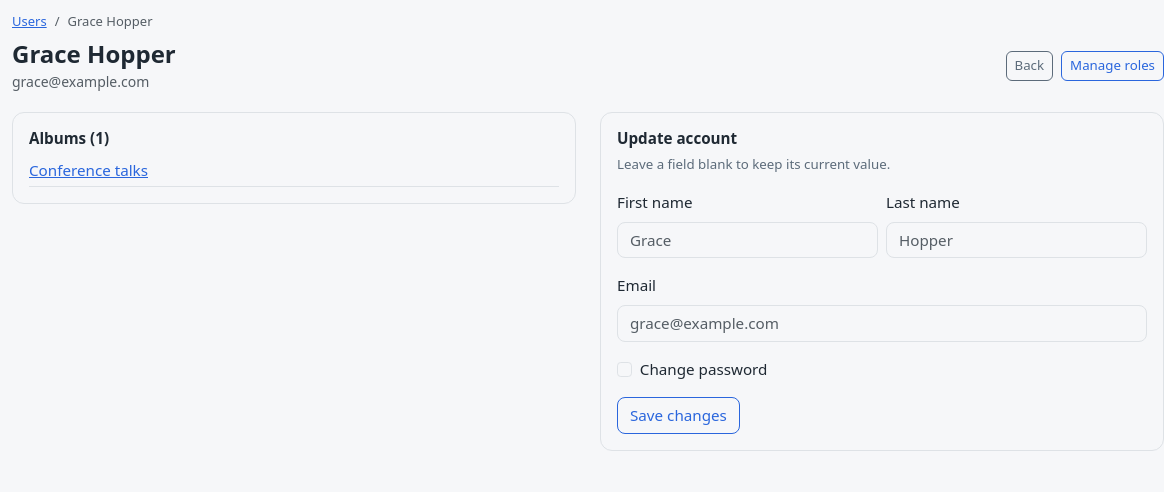
User detail › reports a duplicate email on its field
The image size is (1164, 492).
Type "ada@example.com" into the field labelled "Email" at point(882, 324), box [617, 305, 1147, 342]
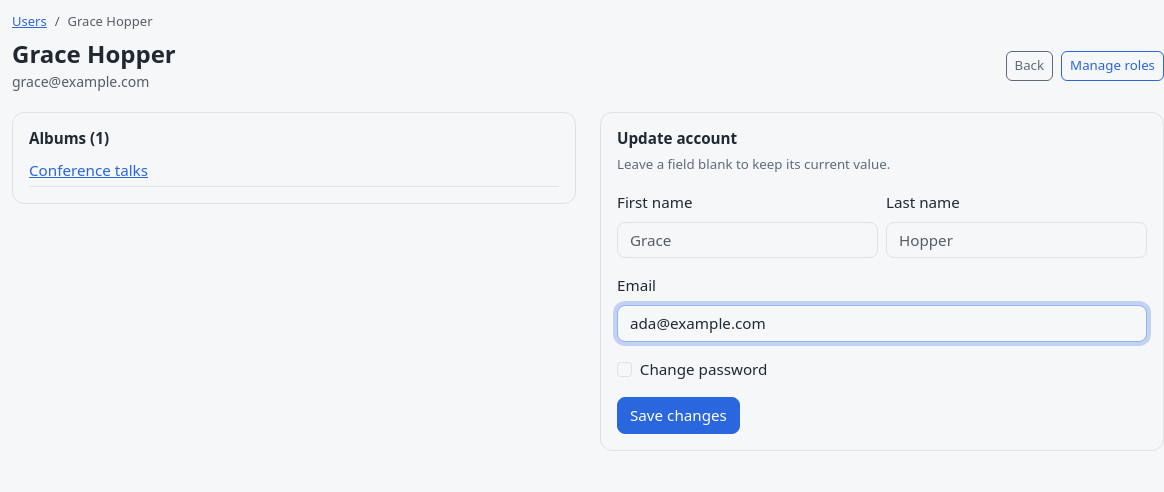
Click the button "Save changes" at point(678, 415), box [617, 397, 740, 434]
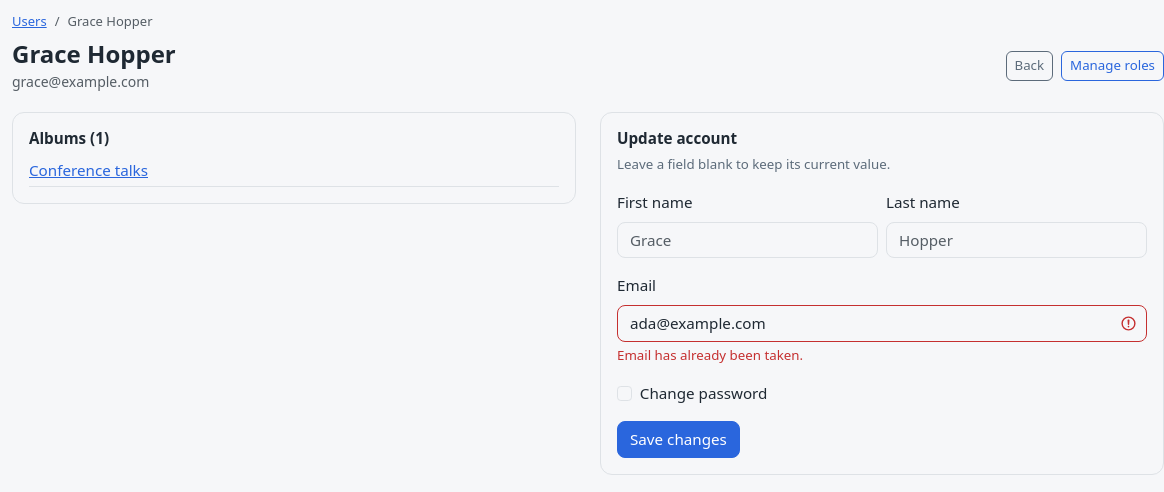
Result: the text "Email has already been taken." is shown at [617, 346, 803, 364]
